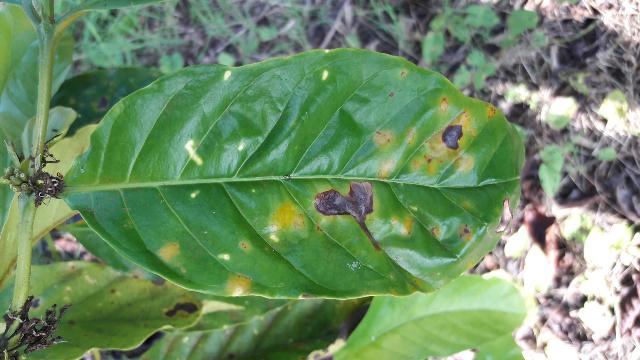rust_level_3: (59, 50, 527, 300)
